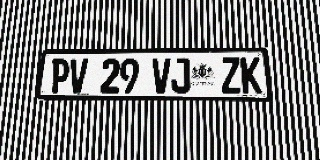2: (101, 58, 120, 93)
9: (120, 58, 139, 93)
J: (171, 58, 190, 93)
K: (240, 57, 262, 93)
P: (50, 59, 70, 93)
V: (68, 59, 88, 93), (152, 58, 170, 93)
Z: (221, 57, 242, 93)
